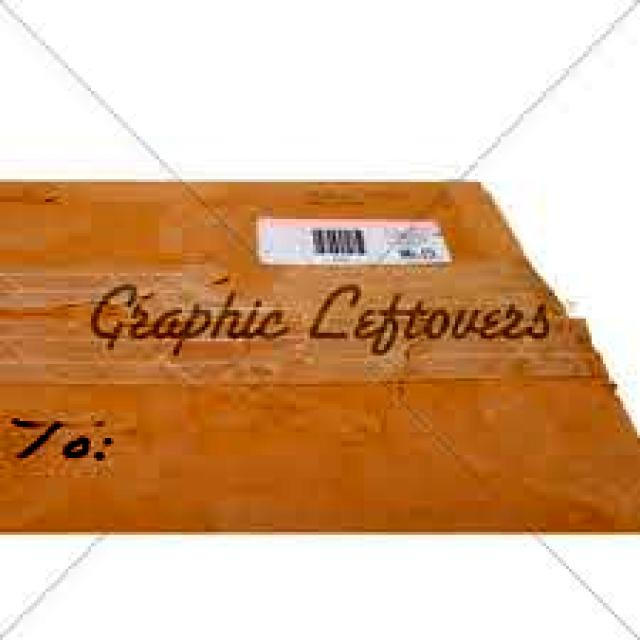Cardboard: (0, 171, 640, 537)
